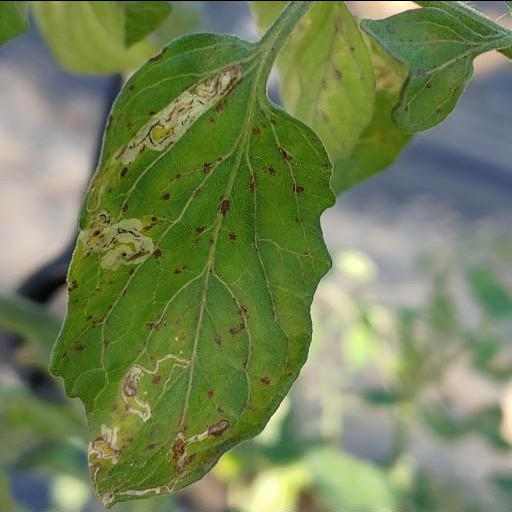disease_tomato: (49, 33, 338, 509)
